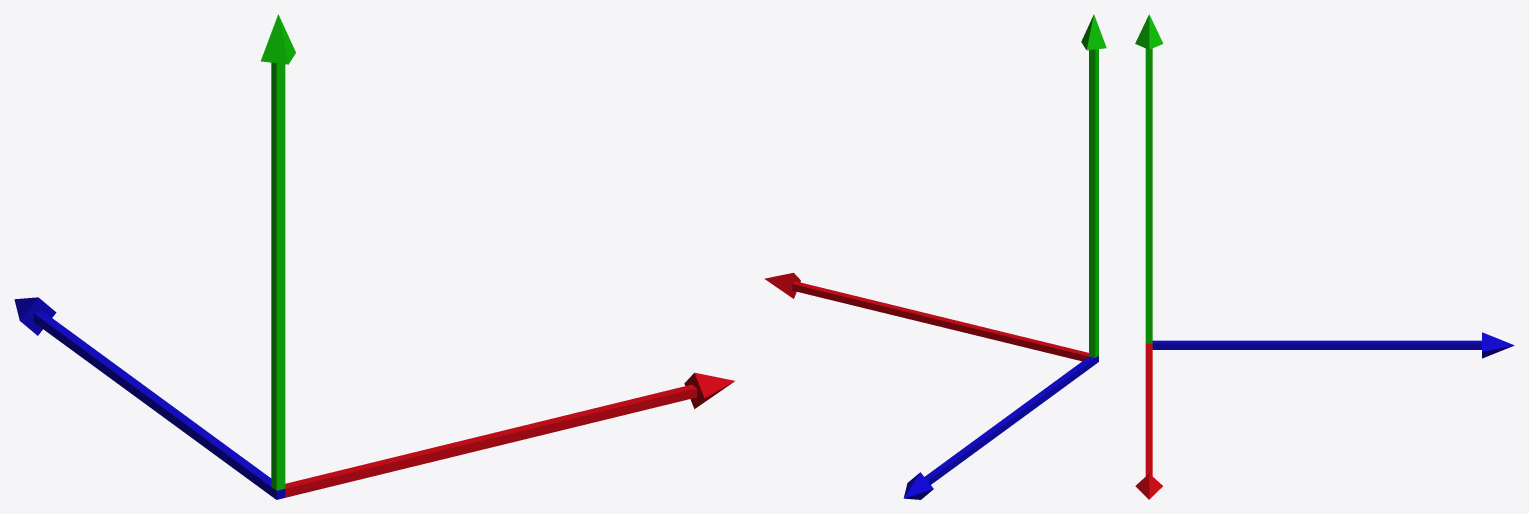
Rendered from Transform_translate_handle.fbx.
3 views of the same model, side by side, from view 1: azimuth 30°, elevation 25°; view 2: azimuth 150°, elevation 25°; view 3: azimuth 270°, elevation 25° (orthographic). The views are drawn at different scales.
Parts seen in each view (by area): view 1: Cube; view 2: Cube; view 3: Cube.
Part boxes in pixels (x1=…): Cube: x1=14, y1=14, x2=734, y2=499; Cube: x1=764, y1=14, x2=1106, y2=499; Cube: x1=1135, y1=14, x2=1514, y2=499.
Bounding box in the file's own units: 578 × 578 × 577.
